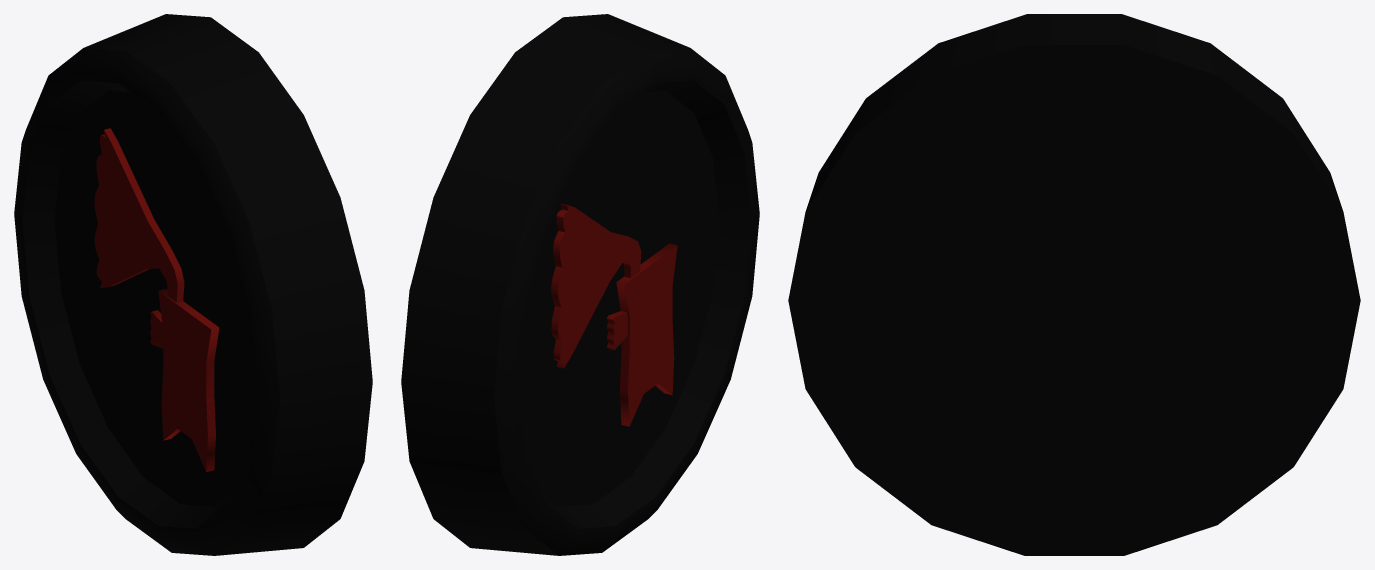
The model's file is SM_FeedbackSono_low.fbx.
The picture shows the model from 3 angles, left to right: view 1: azimuth 30°, elevation 25°; view 2: azimuth 150°, elevation 25°; view 3: azimuth 270°, elevation 25°; orthographic projection. The views are drawn at different scales.
Parts seen in each view (by area): view 1: SM_FeedbackSono_low; view 2: SM_FeedbackSono_low; view 3: SM_FeedbackSono_low.
Boxes of the visible parts, x1,y1,x2,y2 form: SM_FeedbackSono_low: (14,14,372,555); SM_FeedbackSono_low: (401,14,759,555); SM_FeedbackSono_low: (788,14,1360,555).
Size of the model in its own units: 15 by 72.94 by 74.06.
